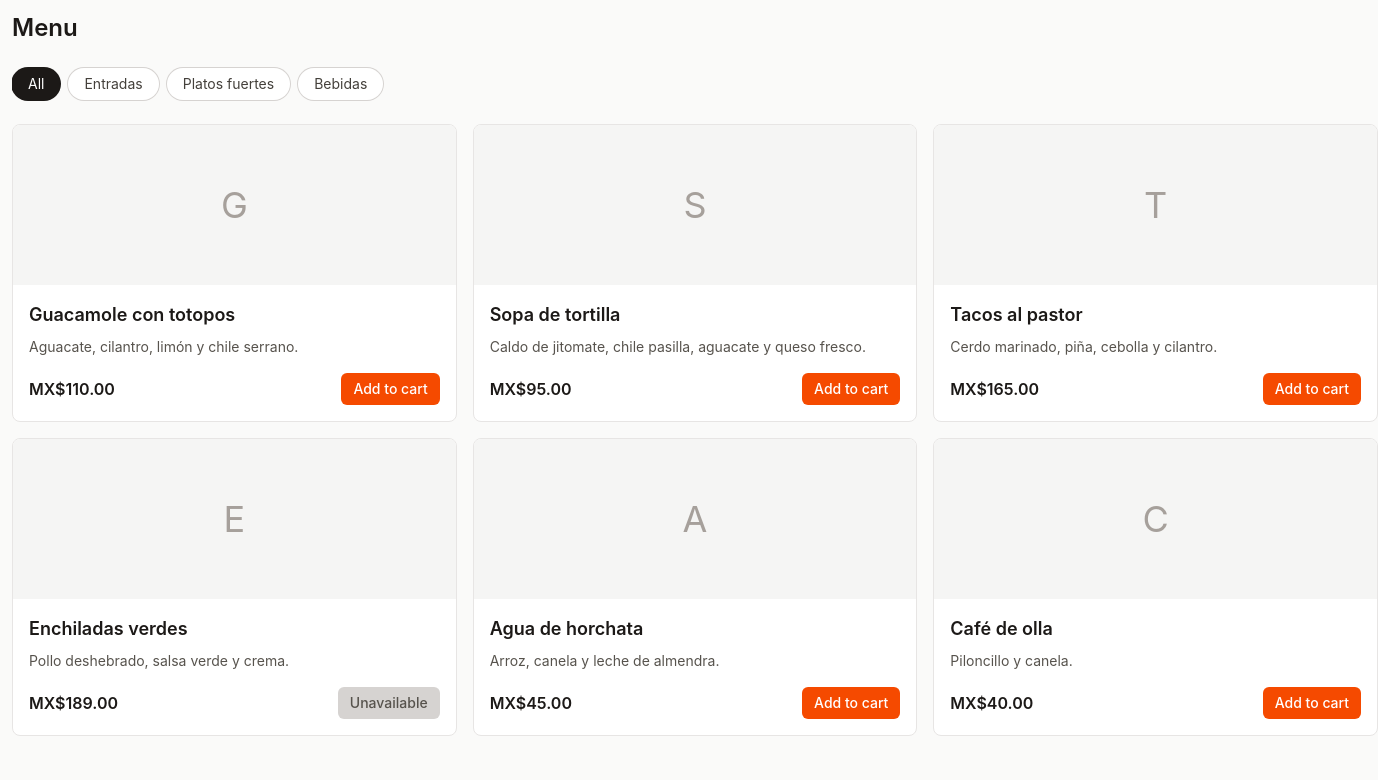
Test: MenuPage › filters the products by category
Click the button "Bebidas" at point(341, 84), box [298,68,383,100]
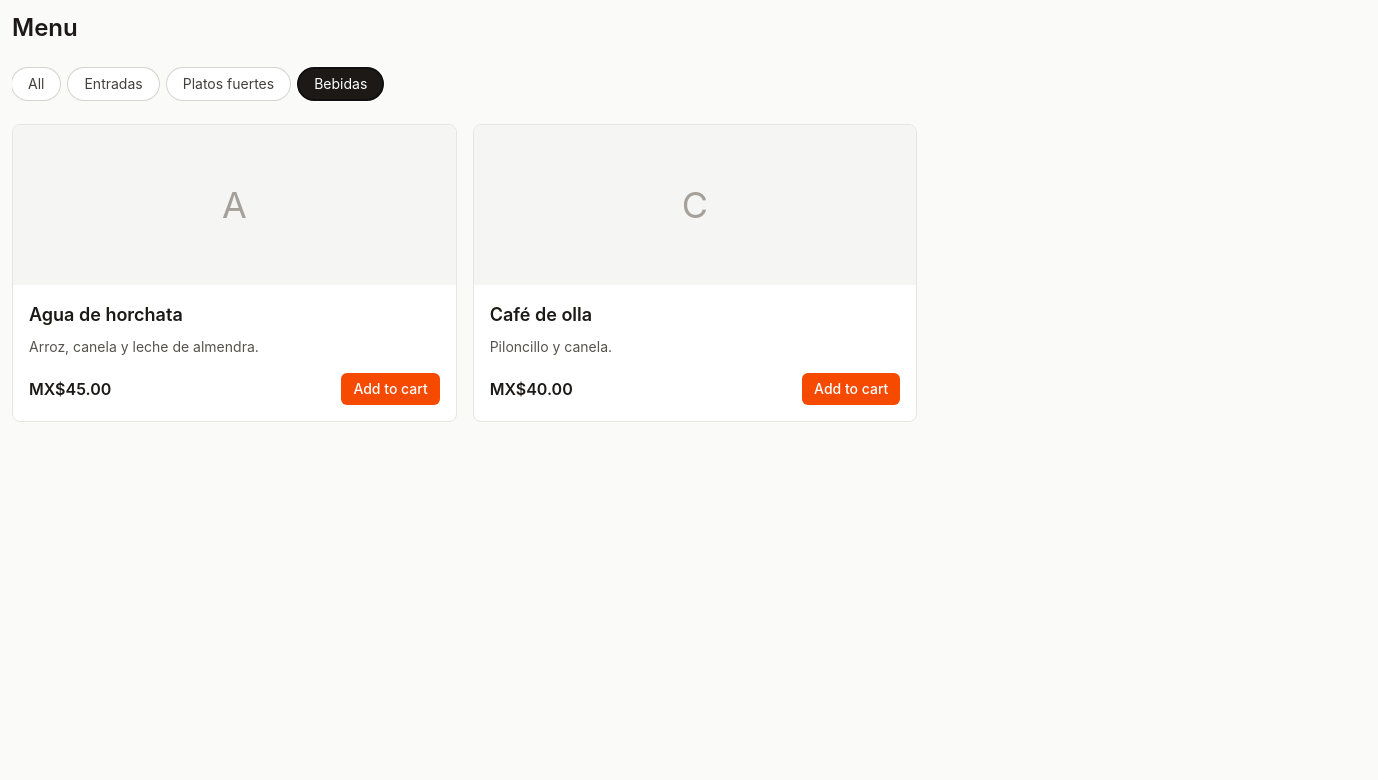
expect the heading "Café de olla" is shown: met, box [490,304,592,325]
expect the link "Tacos al pastor" is gone: met
